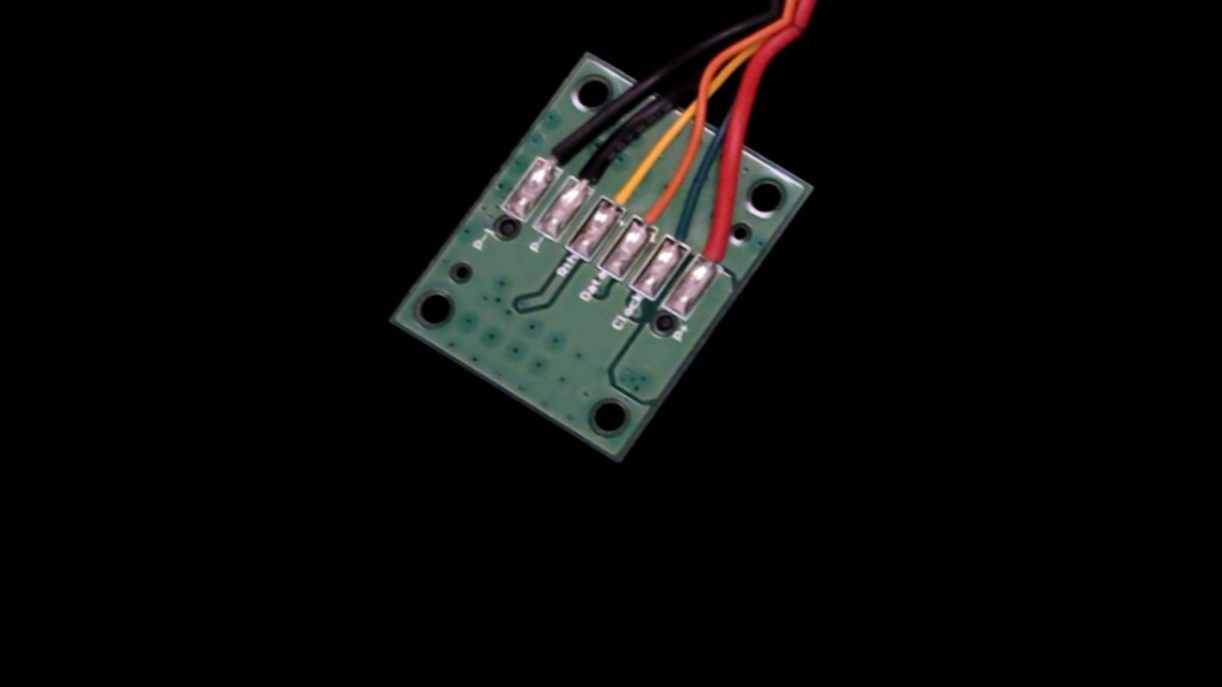Black: (556, 133, 632, 210)
Black1: (521, 116, 592, 187)
Green: (653, 204, 716, 264)
Orange: (623, 171, 696, 246)
Red: (683, 213, 756, 288)
Yellow: (590, 150, 666, 228)
